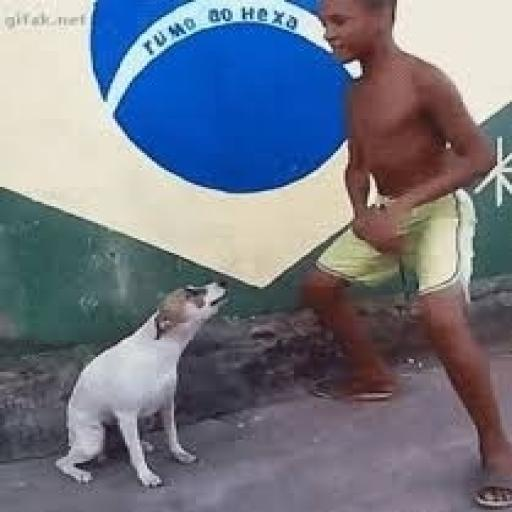dancing: (296, 0, 510, 510)
